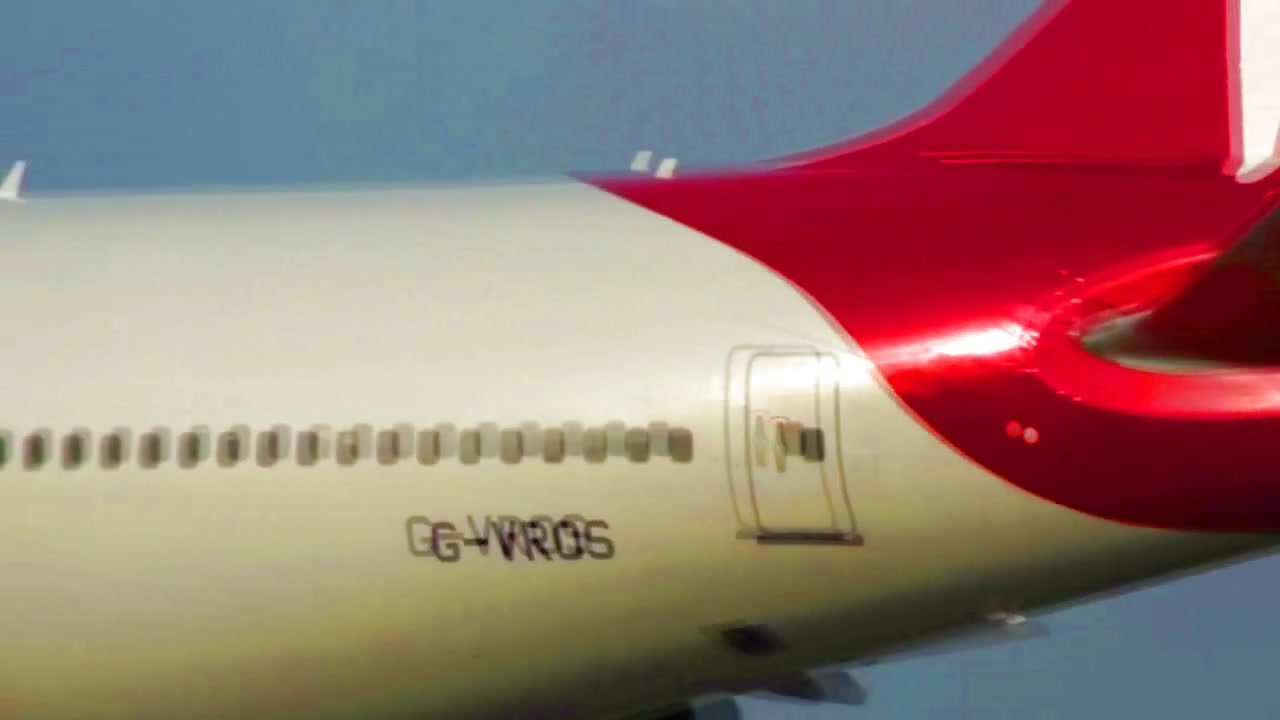aeroplane: (1, 1, 1280, 720)
